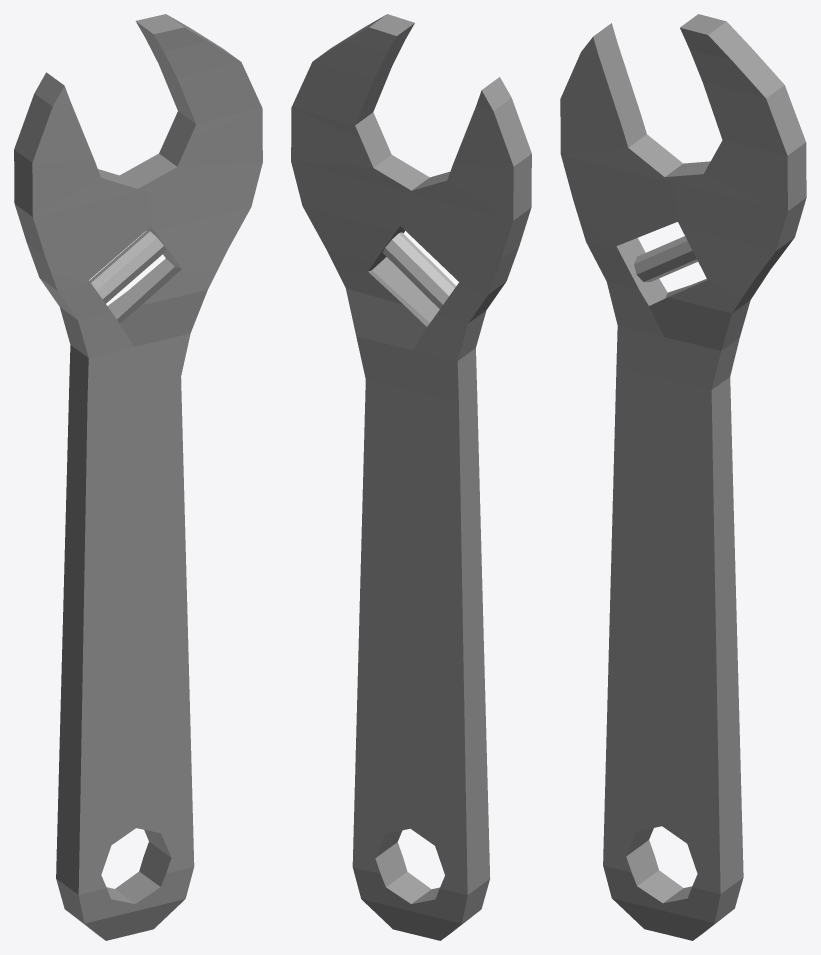
The model's file is wrench01.gltf.
3 renders of one model, left to right at view 1: azimuth 30°, elevation 25°; view 2: azimuth 150°, elevation 25°; view 3: azimuth 330°, elevation 25°, orthographic. The views are drawn at different scales.
Parts seen in each view (by area): view 1: Cube; view 2: Cube; view 3: Cube.
Boxes of the visible parts, <box> form: Cube: <box>14,14,262,940</box>; Cube: <box>291,14,531,940</box>; Cube: <box>560,14,806,940</box>.
Size of the model in its own units: 0.0504 by 0.1913 by 0.00917.
1 material, 1 textured.
